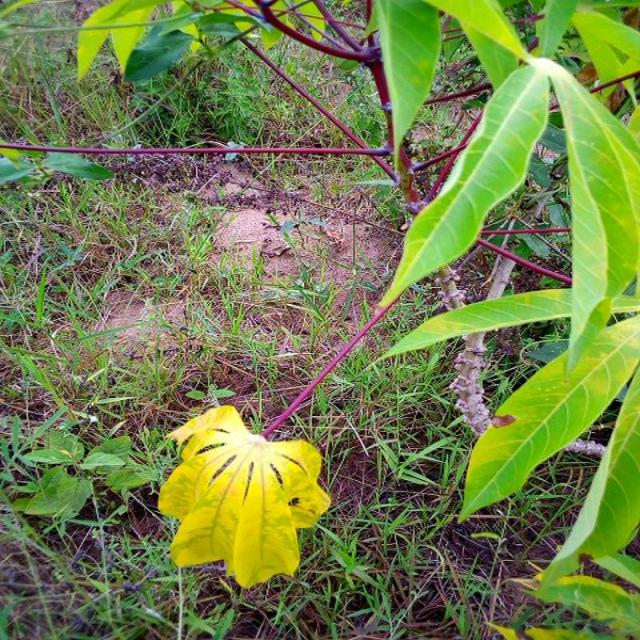cassava leaf: (376, 60, 550, 311), (457, 312, 638, 524), (156, 402, 331, 589)
